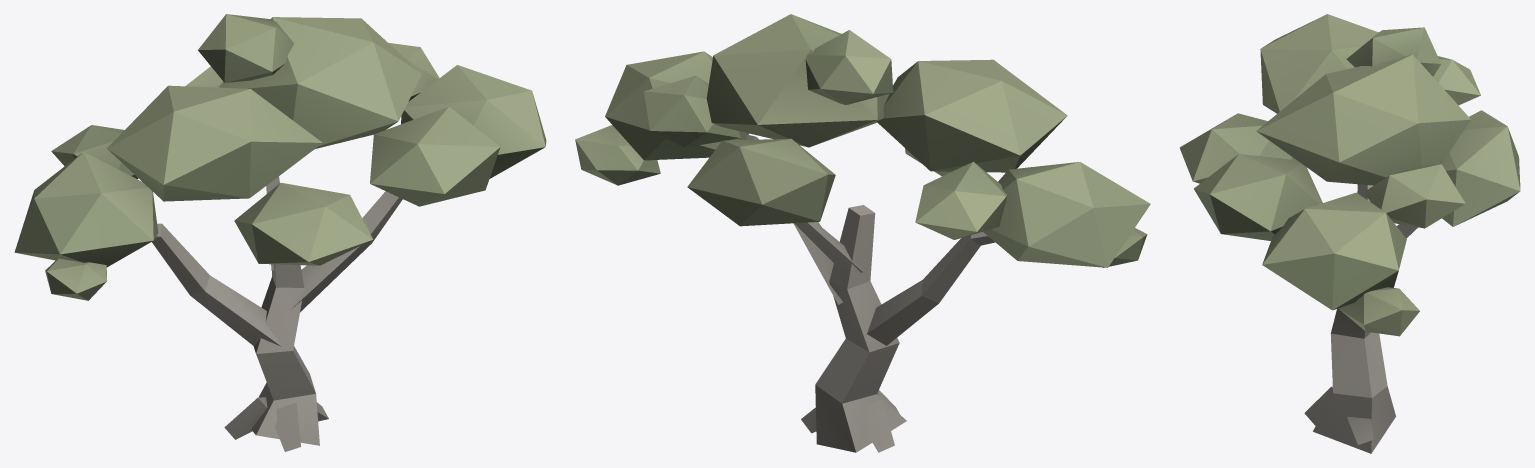
Rendered from olive.lod1.glb.
The picture shows the model from 3 angles, left to right: view 1: azimuth 30°, elevation 25°; view 2: azimuth 150°, elevation 25°; view 3: azimuth 270°, elevation 25°; orthographic projection. The views are drawn at different scales.
Bounding box in the file's own units: 5.79 × 4.47 × 3.45.
